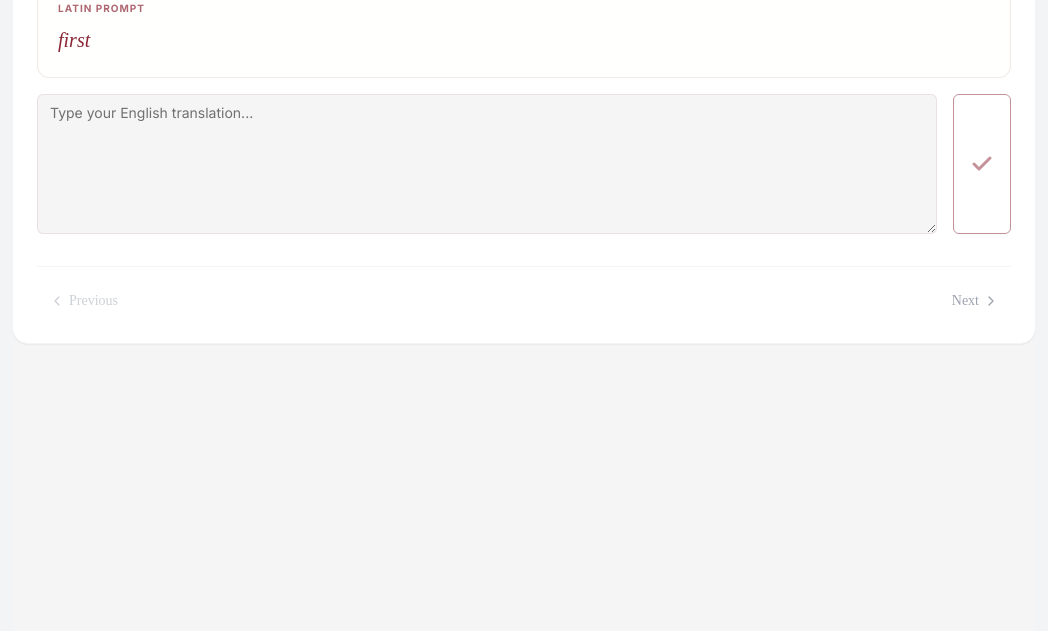
Scenario: translation practice completion › does not accept completion at the final index while earlier sentences remain
Click the button "Next". click: (975, 300)
box: [940, 282, 1011, 318]
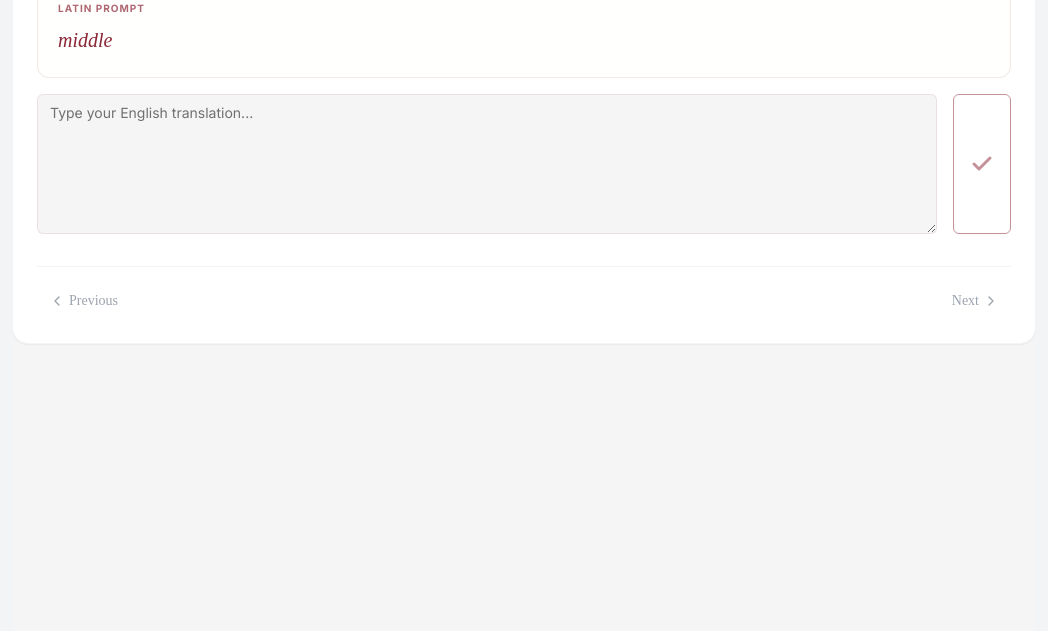
Click the button "Next". click: (975, 300)
box: [940, 282, 1011, 318]
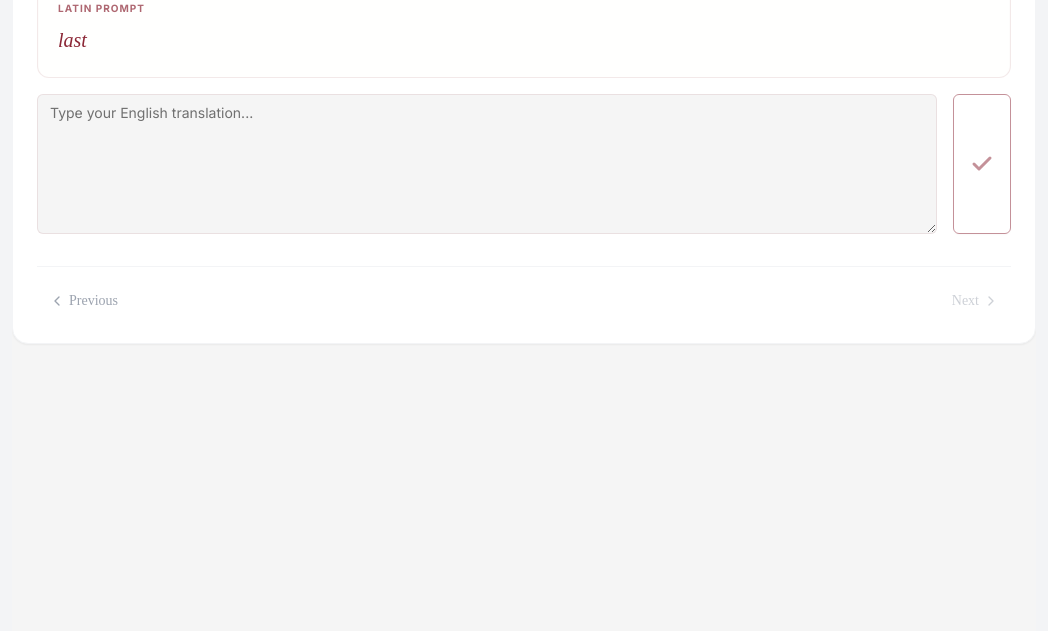
Type "last sentence" into the text box with placeholder "Type your English translation...". click: (487, 164)
box: [37, 94, 937, 234]
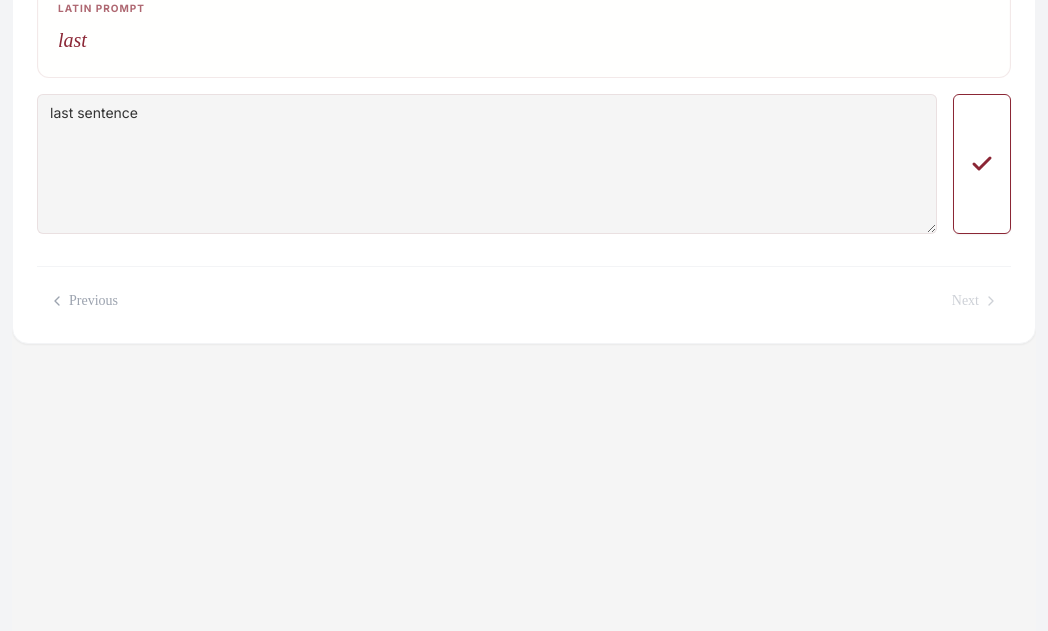
Click the button titled "Check Translation". click: (982, 164)
box: [953, 94, 1011, 234]
(page scrolled)
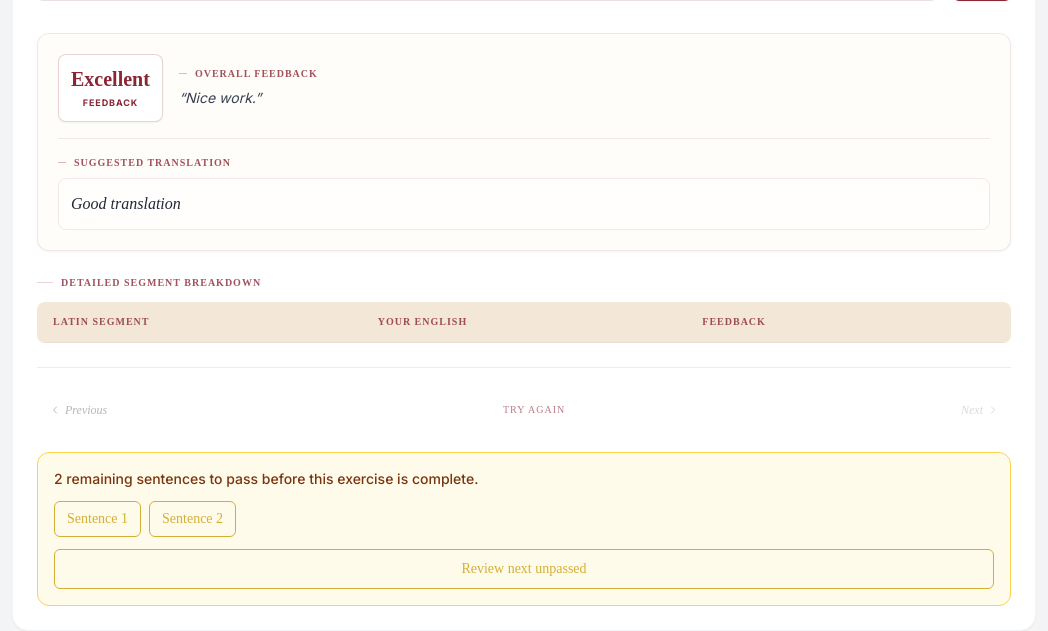
Result: the text "2 remaining sentences" is shown at [54, 470, 478, 486]
Result: the button "Sentence 1" is shown at [54, 500, 141, 536]
